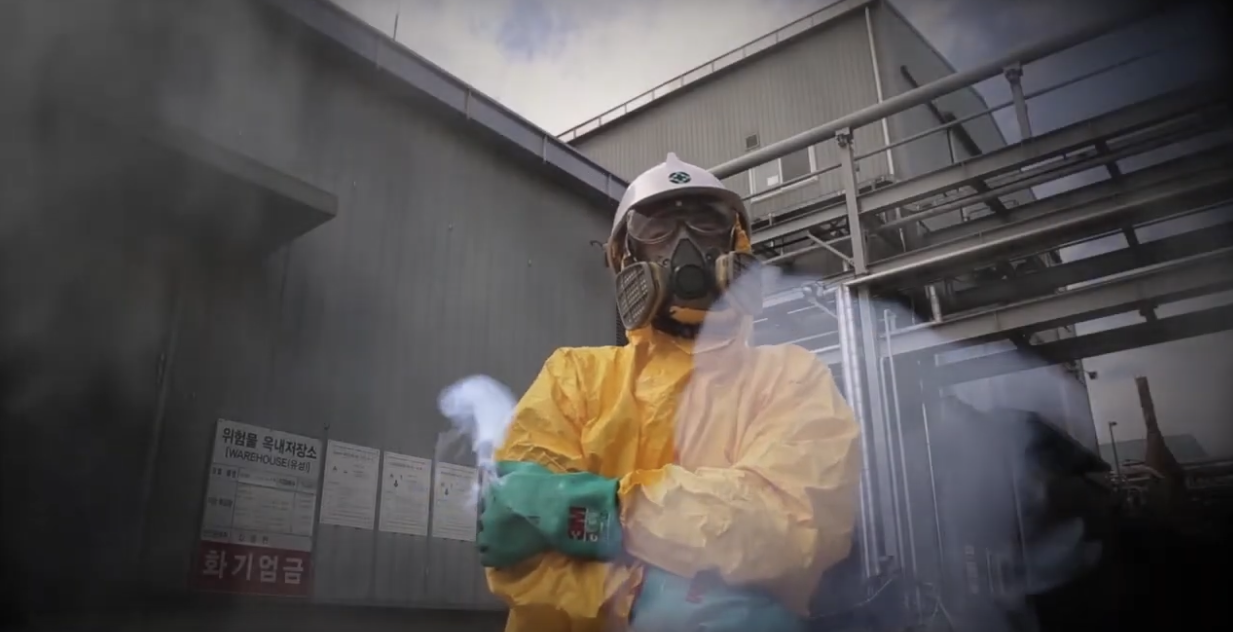smoke: (714, 260, 1110, 611)
